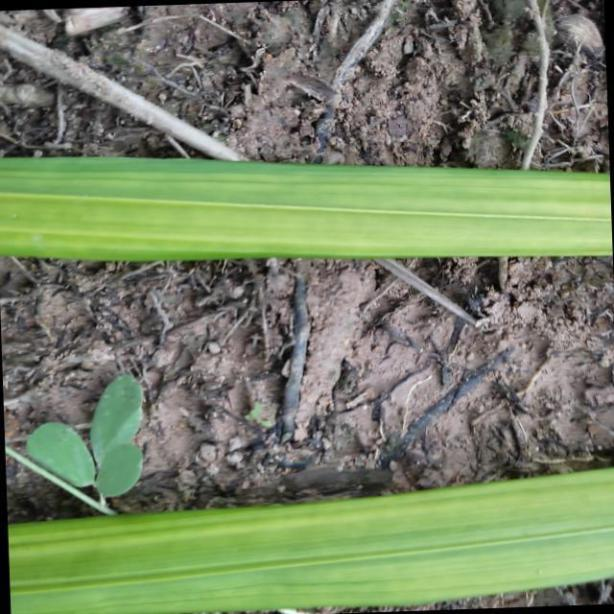nitrogen: (0, 468, 614, 614), (0, 150, 614, 258)
